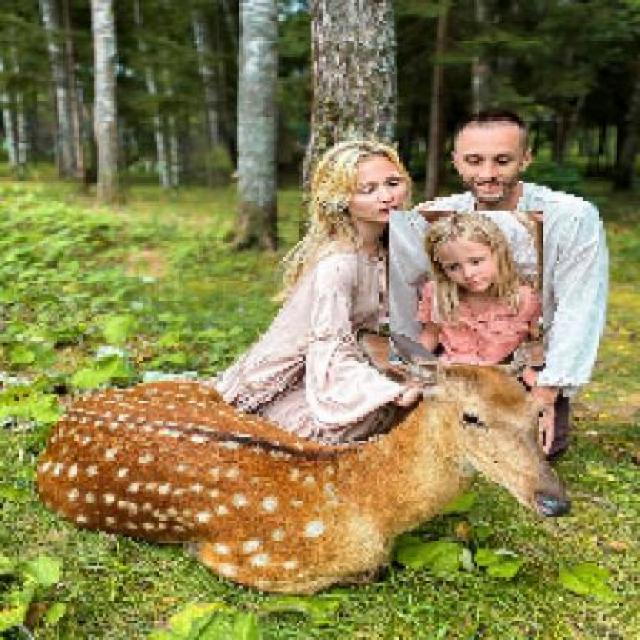child: (388, 211, 543, 366)
